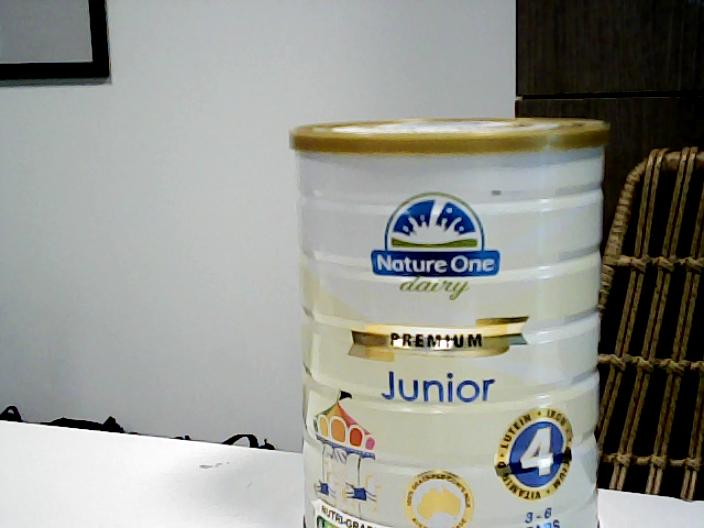Babymilk-powder_900-999g_NonHalal_NonHealthy: (289, 119, 611, 528)
